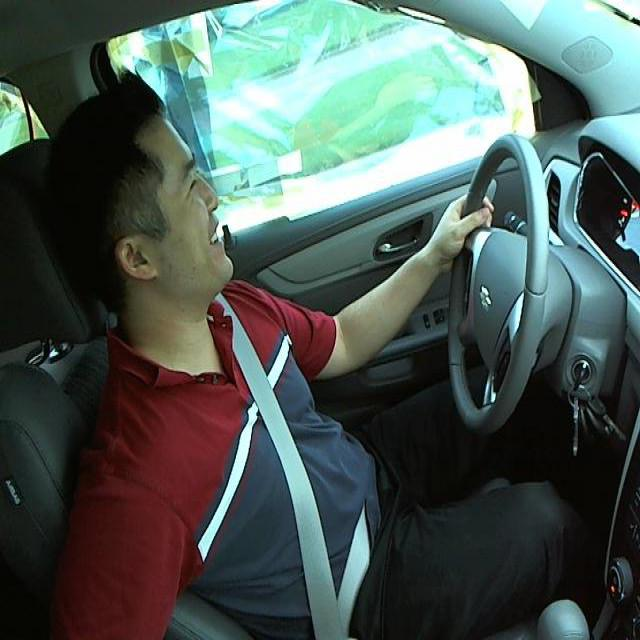seatbelt: (218, 308, 375, 635)
